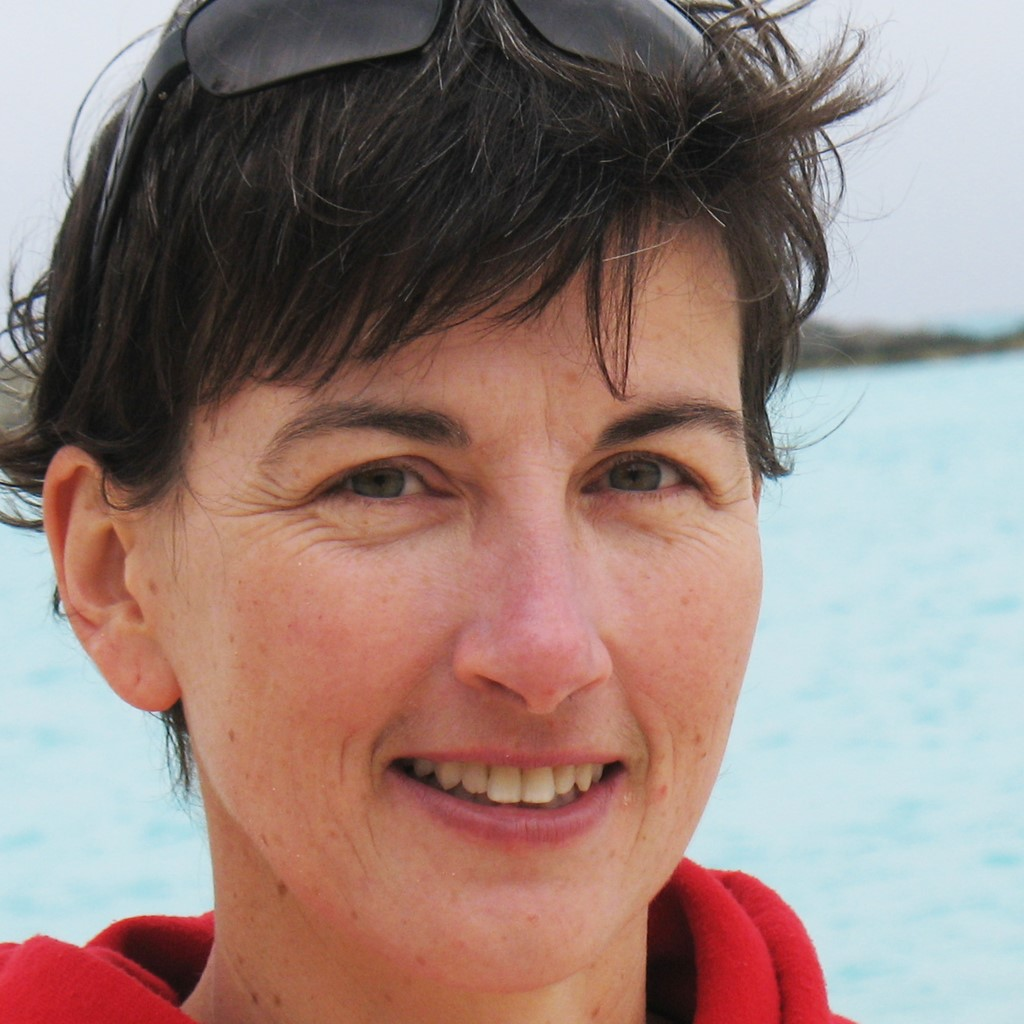sin_mascara: (130, 97, 770, 982)
